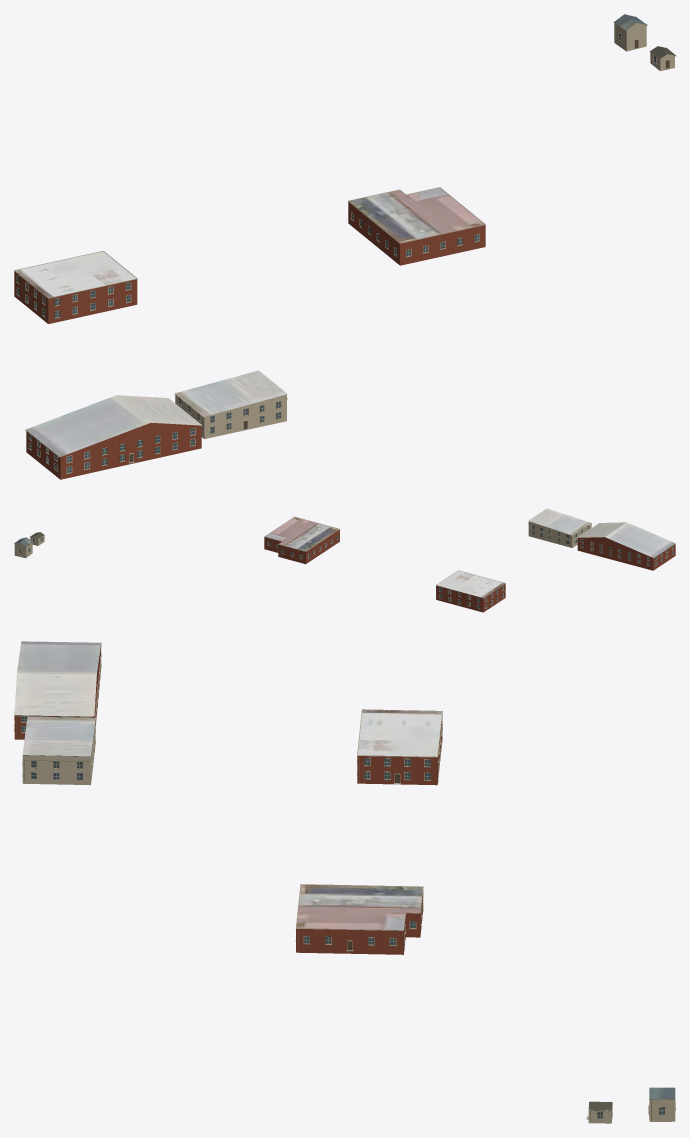
3 views of the same model, one above another, from view 1: azimuth 30°, elevation 25°; view 2: azimuth 150°, elevation 25°; view 3: azimuth 270°, elevation 25° (orthographic). The views are drawn at different scales.
Parts seen in each view (by area): view 1: -4_-4_599928437_1, -4_-4_599929275_4; view 2: -4_-4_599928437_1, -4_-4_599929275_4; view 3: -4_-4_599928437_1, -4_-4_599929275_4.
Boxes of the visible parts, <box> form: -4_-4_599928437_1: <box>14,14,675,479</box>; -4_-4_599929275_4: <box>175,23,674,439</box>; -4_-4_599928437_1: <box>14,508,675,612</box>; -4_-4_599929275_4: <box>14,521,591,558</box>; -4_-4_599928437_1: <box>14,641,675,1121</box>; -4_-4_599929275_4: <box>22,720,675,1123</box>.
Size of the model in its own units: 243 by 9.74 by 146.
Materials: 12 (1 with a texture image).
